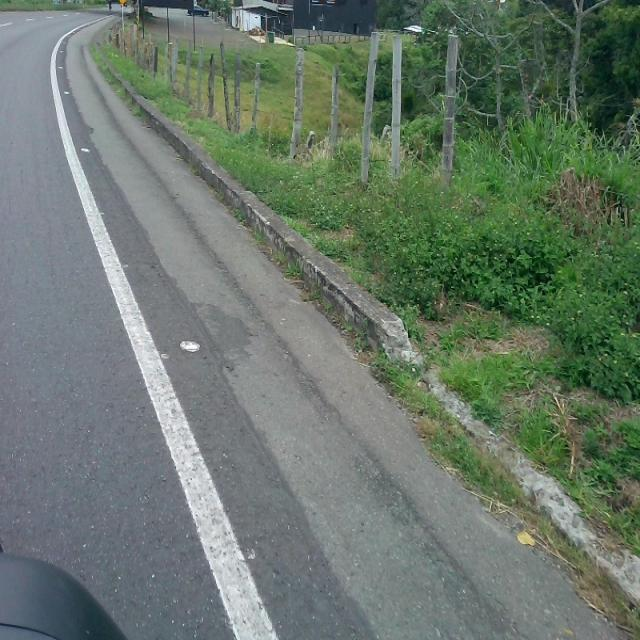DITCH: (53, 12, 636, 638)
